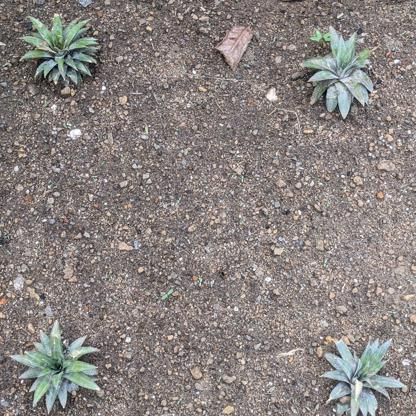pineapple: (8, 319, 100, 416), (301, 23, 377, 123), (317, 338, 406, 416), (19, 13, 104, 94)
